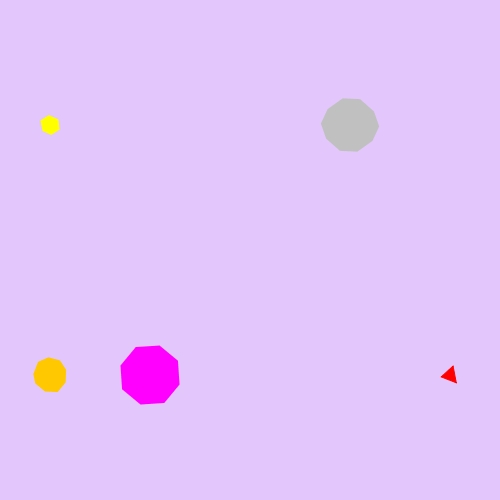decagon: (318, 96, 383, 155)
hexagon: (35, 112, 65, 138)
nonagon: (29, 355, 72, 396)
octagon: (116, 341, 185, 410)
triangle: (438, 362, 463, 388)
